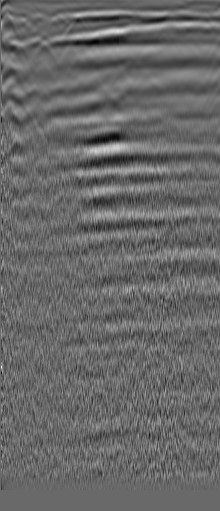오수: (30, 38, 56, 64)
우수: (162, 23, 182, 43)
